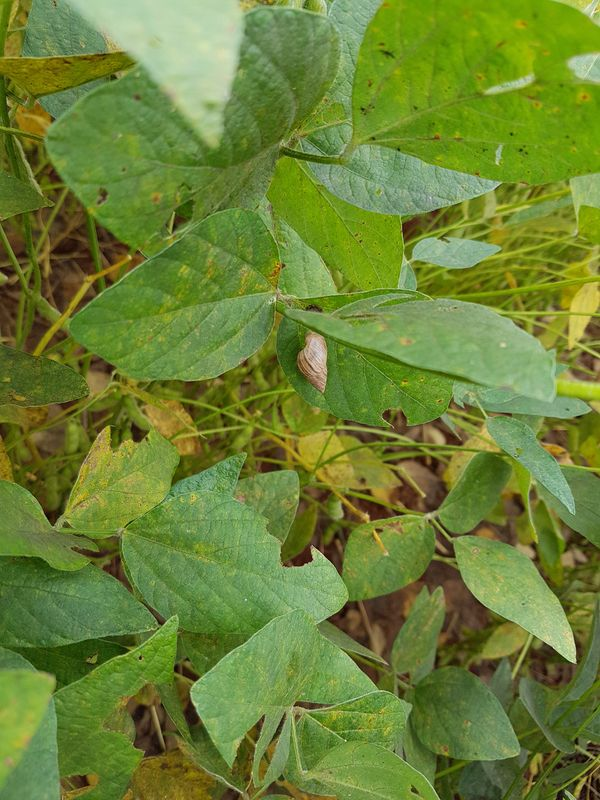Gastropoda: (287, 327, 343, 400)
